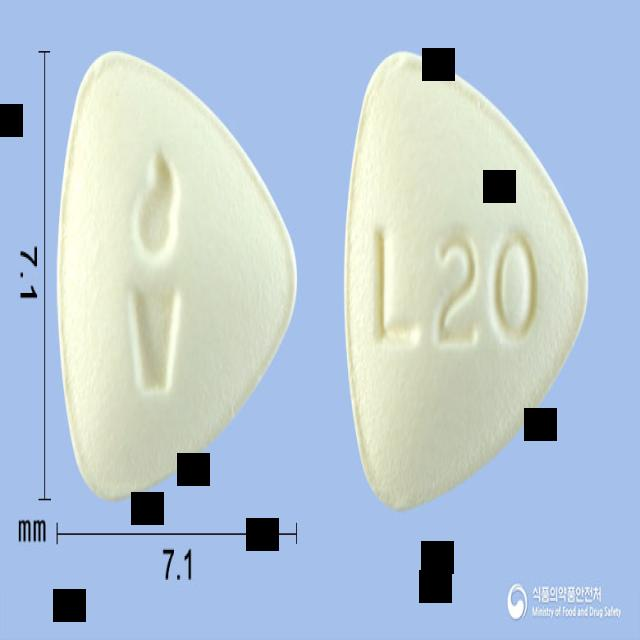Leflu - 10mg: (344, 46, 591, 514), (54, 47, 300, 503)
